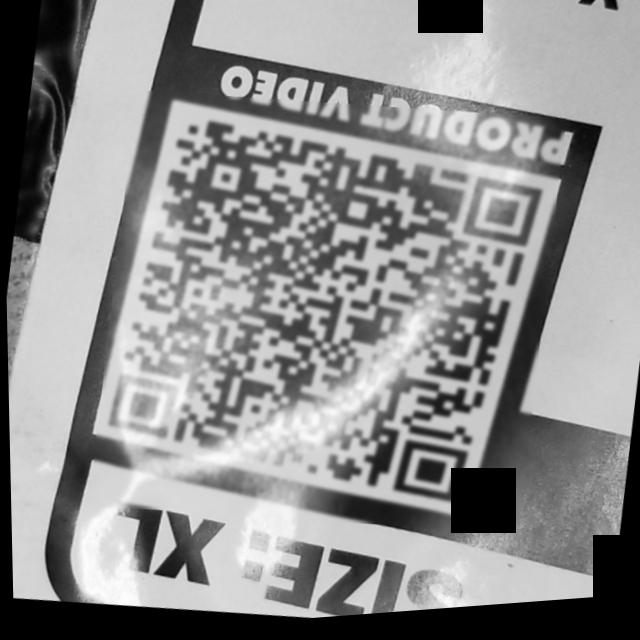QR_CODE: (79, 67, 572, 566)
